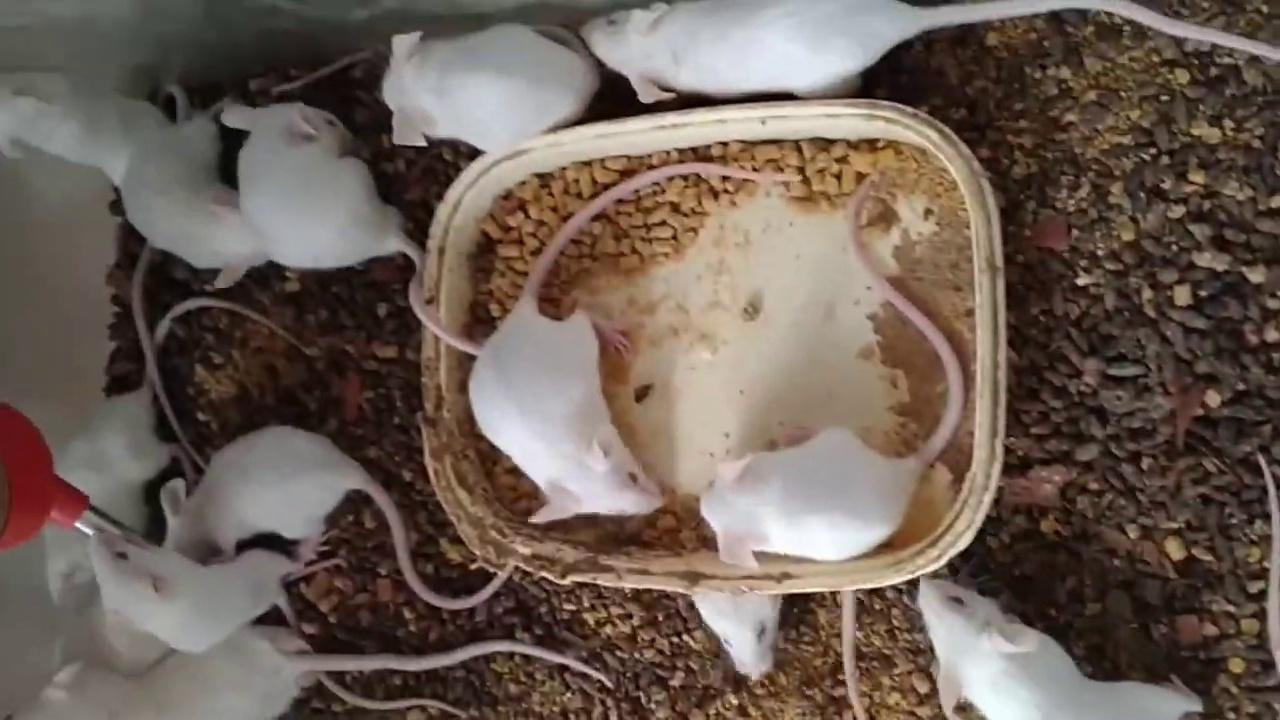rat: (471, 164, 803, 523), (700, 174, 965, 566), (49, 296, 306, 605), (581, 0, 1280, 103), (92, 534, 468, 720), (223, 98, 479, 354), (161, 426, 516, 609), (10, 625, 615, 720), (917, 577, 1204, 720), (382, 23, 597, 155), (122, 114, 265, 288), (0, 67, 175, 188), (689, 594, 783, 680)
